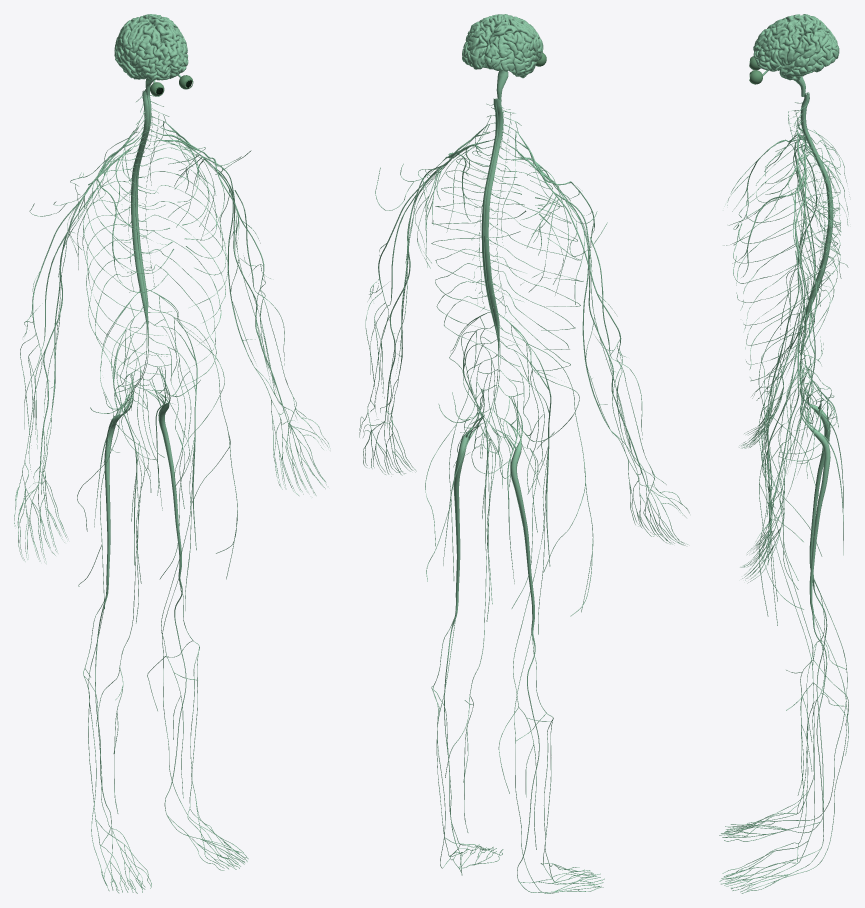
The model's file is nervous.glb.
3 views of the same model, side by side, from view 1: azimuth 30°, elevation 25°; view 2: azimuth 150°, elevation 25°; view 3: azimuth 270°, elevation 25° (orthographic). The views are drawn at different scales.
Parts seen in each view (by area): view 1: nervous; view 2: nervous; view 3: nervous.
Part boxes in pixels (<box>): nervous: <box>14,14,330,893</box>; nervous: <box>359,14,689,893</box>; nervous: <box>719,14,849,893</box>.
Size of the model in its own units: 0.7802 by 1.98 by 0.2789.
